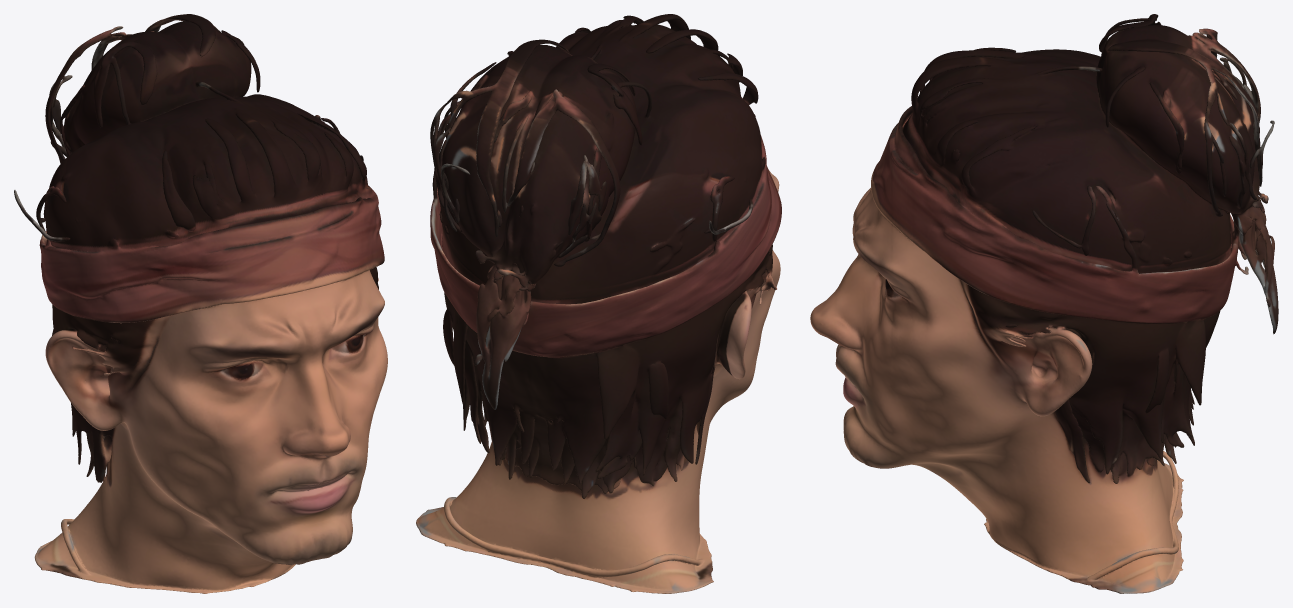
Rendered from kepala-tripo.glb.
3 renders of one model, left to right at view 1: azimuth 30°, elevation 25°; view 2: azimuth 150°, elevation 25°; view 3: azimuth 270°, elevation 25°, orthographic.
Visible parts, largest first — view 1: tripo_node_417da23e-2c82-49d3-8ce9-70fc13715d98; view 2: tripo_node_417da23e-2c82-49d3-8ce9-70fc13715d98; view 3: tripo_node_417da23e-2c82-49d3-8ce9-70fc13715d98.
Part boxes in pixels (<box>): tripo_node_417da23e-2c82-49d3-8ce9-70fc13715d98: <box>14,14,387,593</box>; tripo_node_417da23e-2c82-49d3-8ce9-70fc13715d98: <box>416,14,781,593</box>; tripo_node_417da23e-2c82-49d3-8ce9-70fc13715d98: <box>810,14,1278,593</box>.
Size of the model in its own units: 0.6444 by 1 by 0.8557.
1 material, 1 textured.
